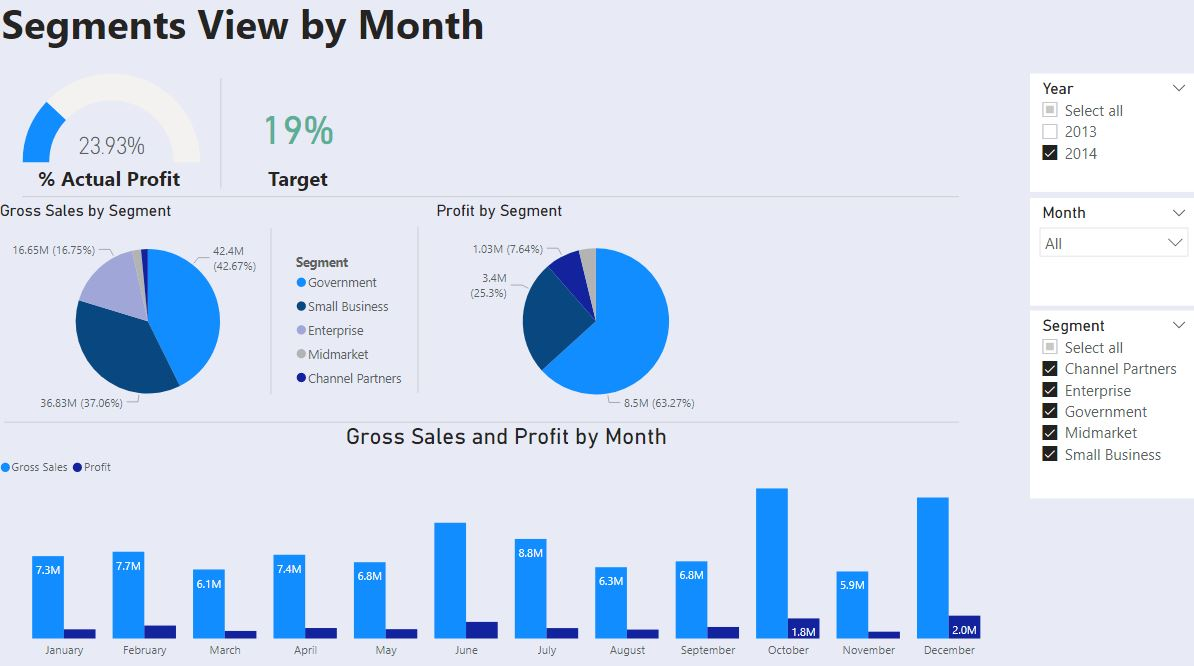

What the dashboard file says about the page in this screenshot:
{"tool":"powerbi","page":{"name":"Segments View by Month","canvas":[1280,720],"ordinal":2},"visuals":[{"type":"slicer","fields":{"Values":["Calendar.Year"]},"box":[1101.4,88.5,178.6,126.2],"z":1000},{"type":"slicer","fields":{"Values":["Calendar.Month Name"]},"box":[1101.4,220.2,178.6,114.7],"z":2000},{"type":"slicer","fields":{"Values":["Organizational Structure.Segment"]},"box":[1101.4,339.3,178.6,199.9],"z":3000},{"type":"textbox","box":[1.6,0,613,68.6],"z":6000},{"type":"card","fields":{"Values":["Profit Target.%_Profit_AVG"]},"box":[253.8,89.4,135.7,107],"z":8000},{"type":"basicShape","box":[0,443.8,1036.1,30.3],"z":9000},{"type":"basicShape","box":[19.2,207.5,1016.9,22.4],"z":10000},{"type":"basicShape","box":[435.8,241.1,28.7,196.4],"z":11000},{"type":"basicShape","box":[226.7,83,27.1,137.3],"z":12000},{"type":"clusteredColumnChart","title":"Gross Sales and Profit by Month","fields":{"Category":["Calendar.Month Name"],"Y":["Sum(SalesSummarized.Gross Sales)","Sum(SalesSummarized.Profit)"]},"box":[0,459.8,1088.8,260.2],"z":15001},{"type":"pieChart","fields":{"Category":["SalesSummarized.Segment"],"Y":["Sum(SalesSummarized.Gross Sales)"]},"box":[0,223.5,447,236.3],"z":15002},{"type":"pieChart","fields":{"Category":["SalesSummarized.Segment"],"Y":["Sum(SalesSummarized.Profit)"]},"box":[464.6,223.5,349.6,236.3],"z":15003},{"type":"gauge","fields":{"Y":["Avg(SalesSummarized.%_Profit)"]},"box":[23.9,73.4,199.6,122.9],"z":15004},{"type":"textbox","box":[19.2,178.8,204.3,68.6],"z":15005},{"type":"textbox","box":[249,178.8,146.9,68.6],"z":15006},{"type":"basicShape","box":[279.4,242.7,28.7,196.4],"z":15007}]}

Visuals, with their boxes in screenshot pixels (x1, y1, x2, y2), scaled from the page's 1280x720 canvas onto the 1194x666 screenshot:
slicer - Calendar.Year: <bbox>1027, 82, 1193, 199</bbox>
slicer - Calendar.Month Name: <bbox>1027, 204, 1193, 310</bbox>
slicer - Organizational Structure.Segment: <bbox>1027, 314, 1193, 499</bbox>
textbox: <bbox>1, 0, 573, 63</bbox>
card - Profit Target.%_Profit_AVG: <bbox>237, 83, 363, 182</bbox>
basicShape: <bbox>0, 411, 966, 439</bbox>
basicShape: <bbox>18, 192, 966, 213</bbox>
basicShape: <bbox>407, 223, 433, 405</bbox>
basicShape: <bbox>211, 77, 237, 204</bbox>
"Gross Sales and Profit by Month" clusteredColumnChart: <bbox>0, 425, 1016, 665</bbox>
pieChart - SalesSummarized.Segment x Sum(SalesSummarized.Gross Sales): <bbox>0, 207, 417, 425</bbox>
pieChart - SalesSummarized.Segment x Sum(SalesSummarized.Profit): <bbox>433, 207, 759, 425</bbox>
gauge - Avg(SalesSummarized.%_Profit): <bbox>22, 68, 208, 182</bbox>
textbox: <bbox>18, 165, 208, 229</bbox>
textbox: <bbox>232, 165, 369, 229</bbox>
basicShape: <bbox>261, 224, 287, 406</bbox>
